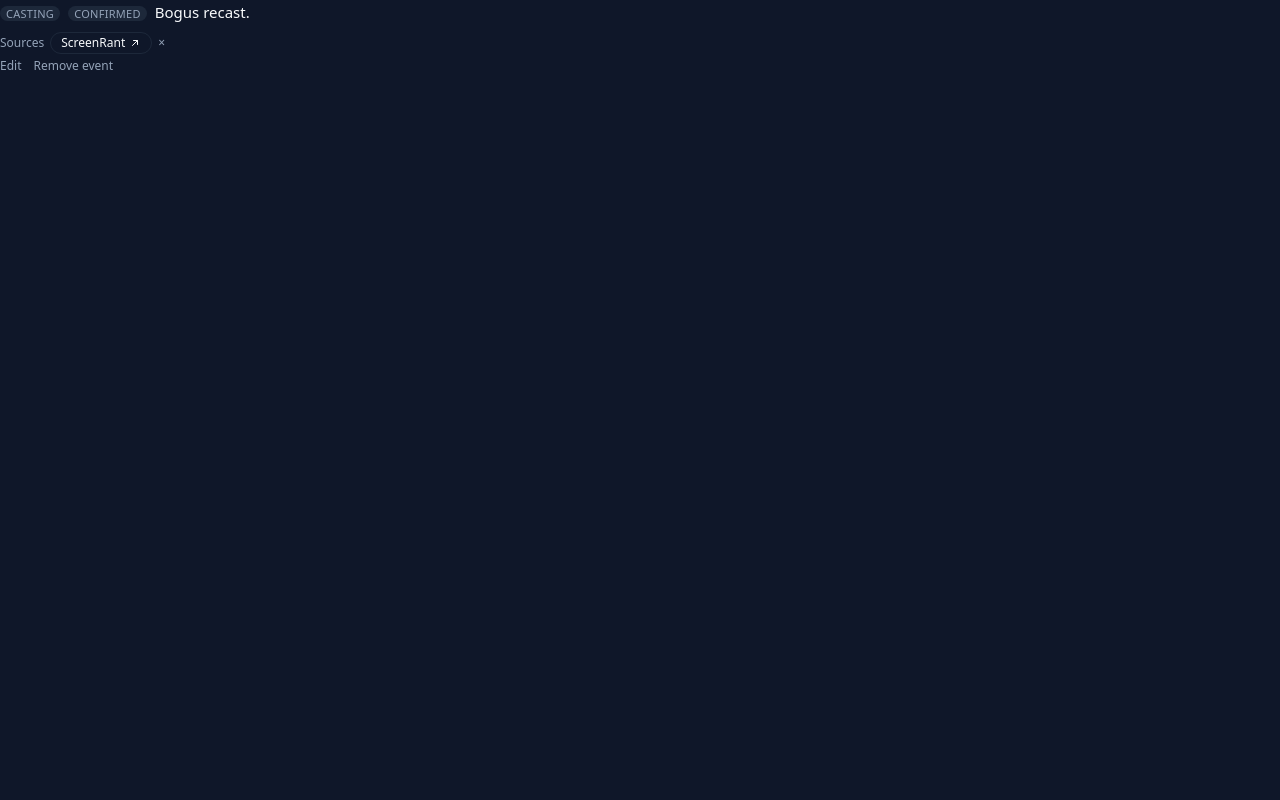
edits the summary and shows the new text and edited badge
Check: the text "Bogus recast." is shown, box [155,2,250,22]
Click the button "Edit".
click(11, 66)  # box [0,58,22,74]
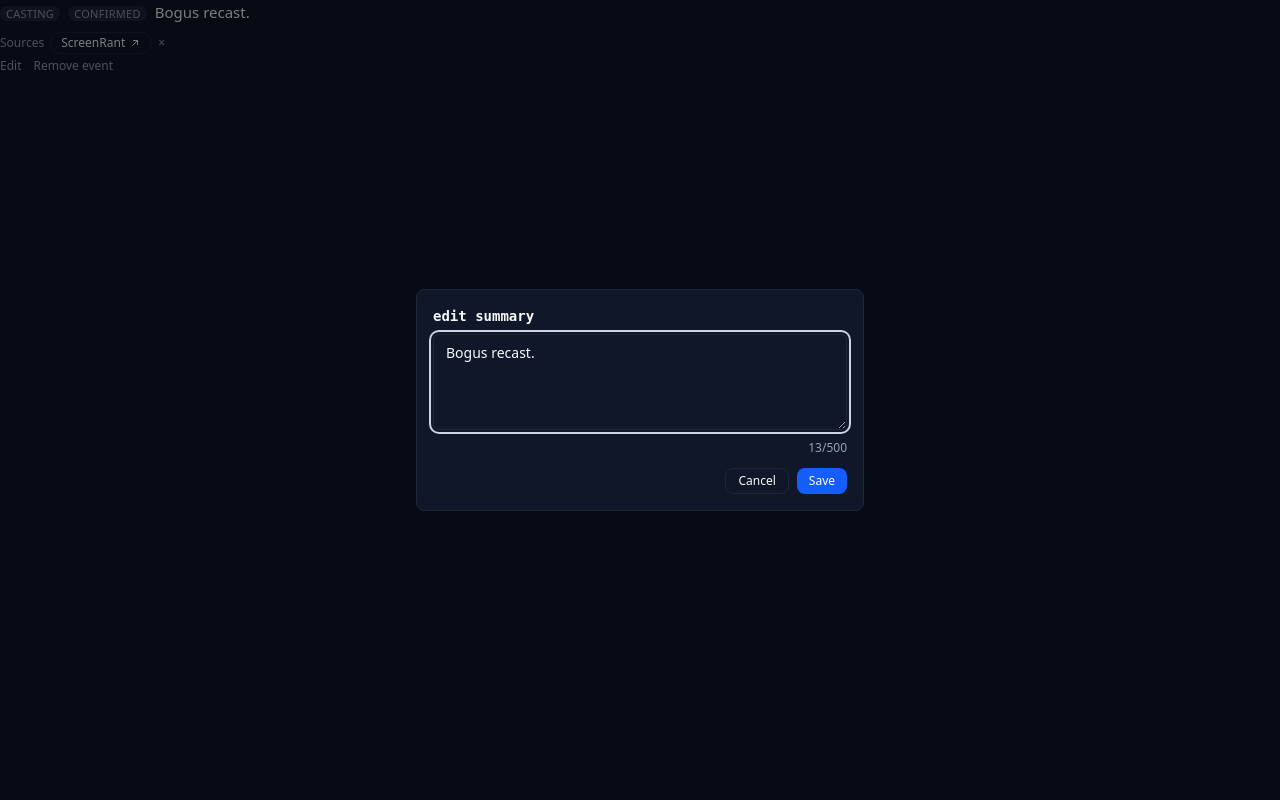
Replace the text in the text box with "Updated summary." at (640, 382), box [433,334,847,430]
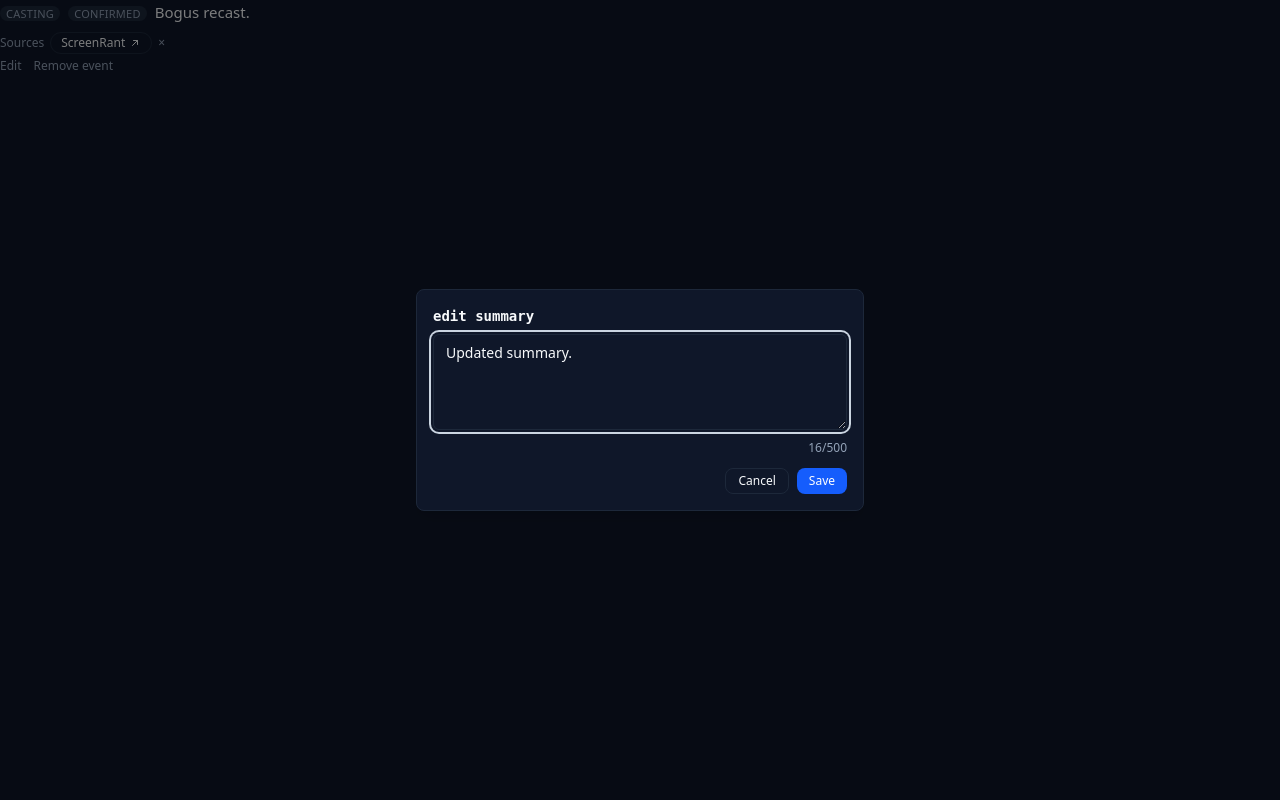
Click the button "Save".
click(822, 481)  # box [797,468,847,494]
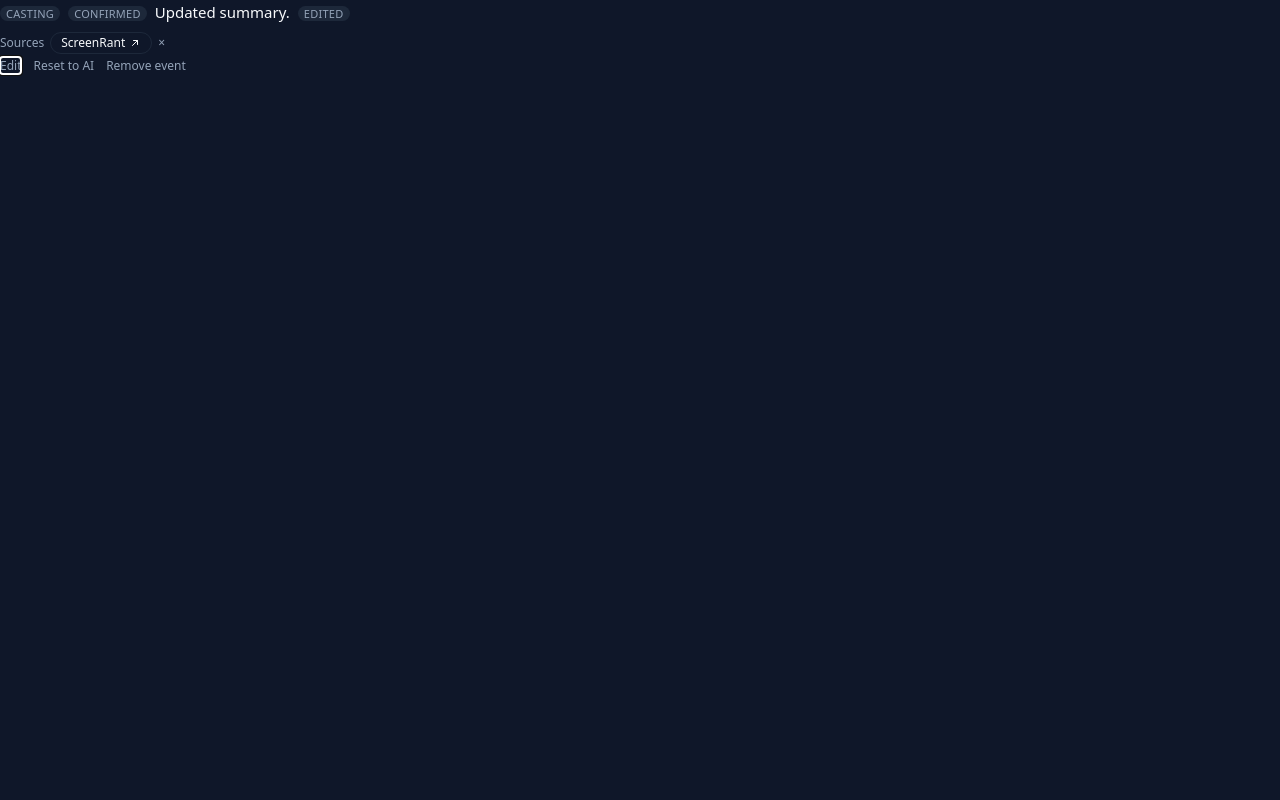
Check: the text "Updated summary." is shown, box [155,2,290,22]
Check: the text "edited" is shown, box [298,6,350,22]
